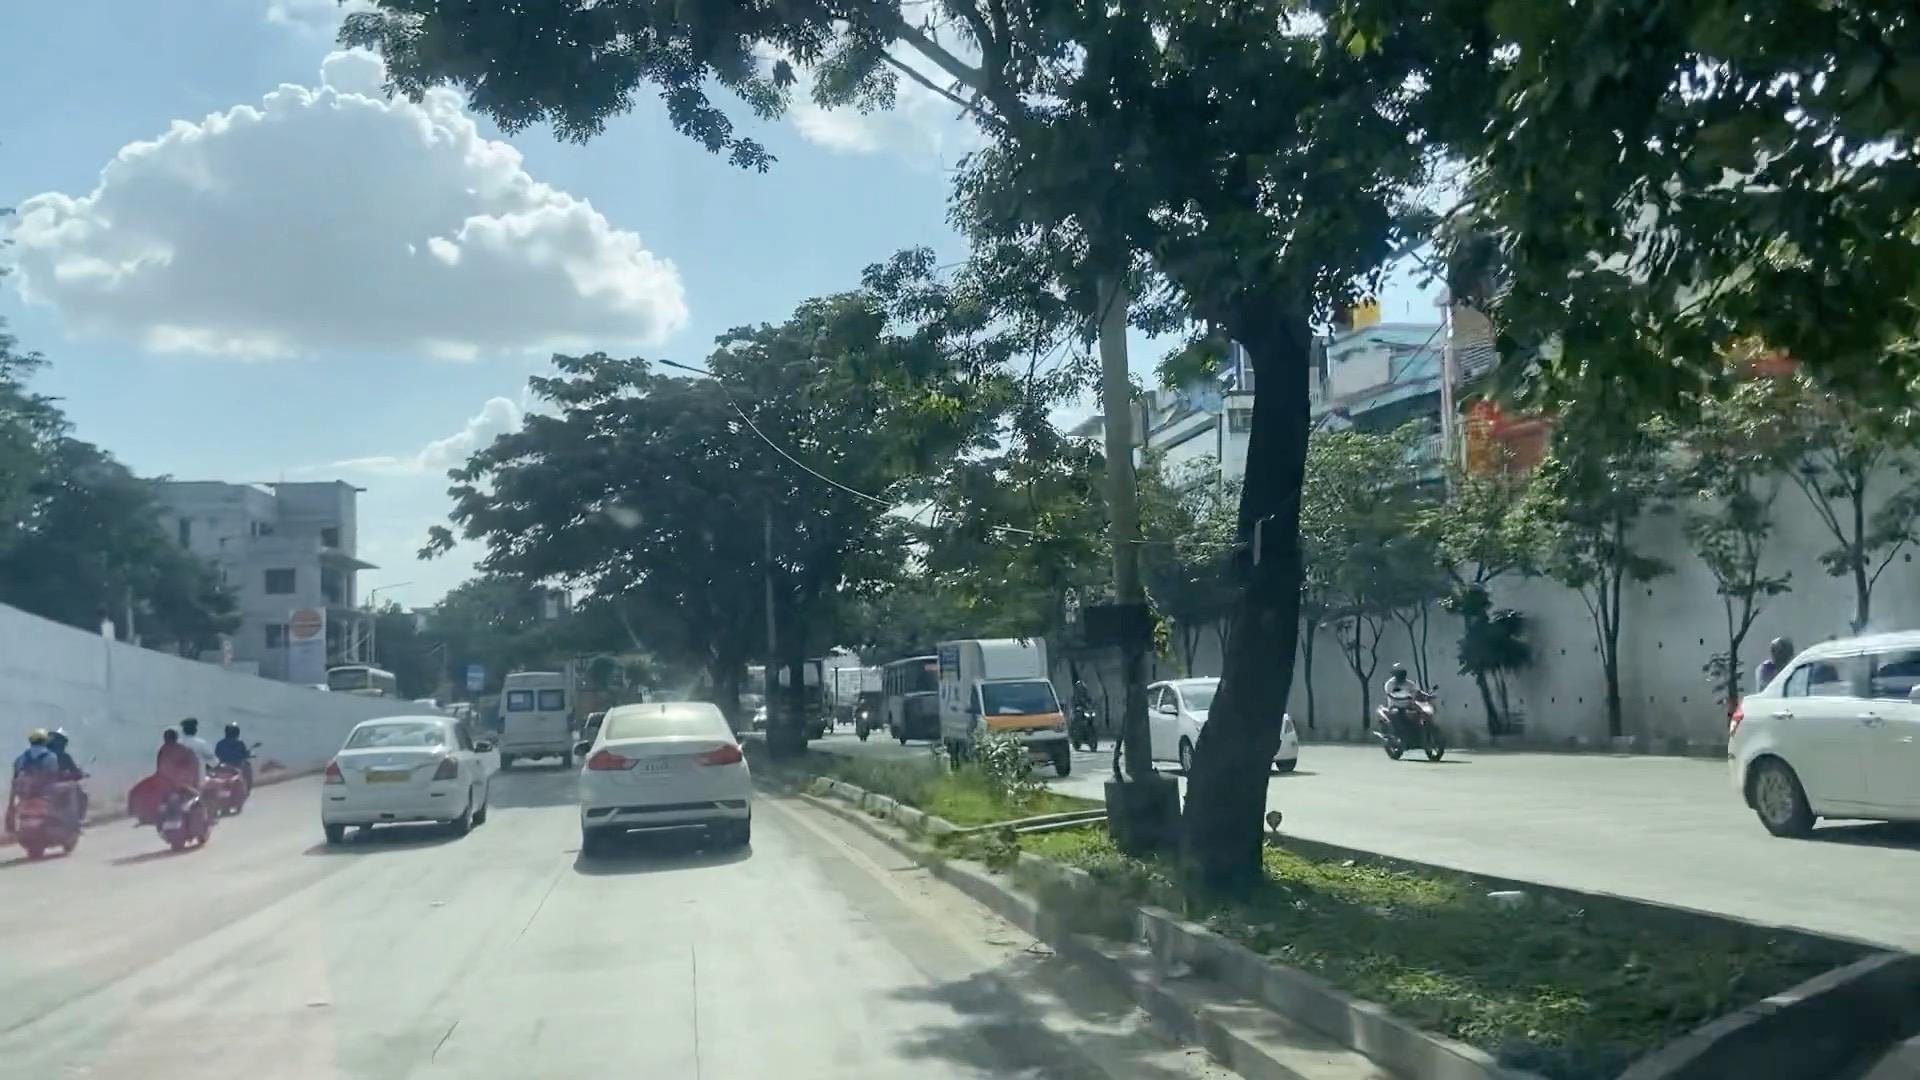LMV: (13, 718, 95, 860), (155, 718, 215, 852)
